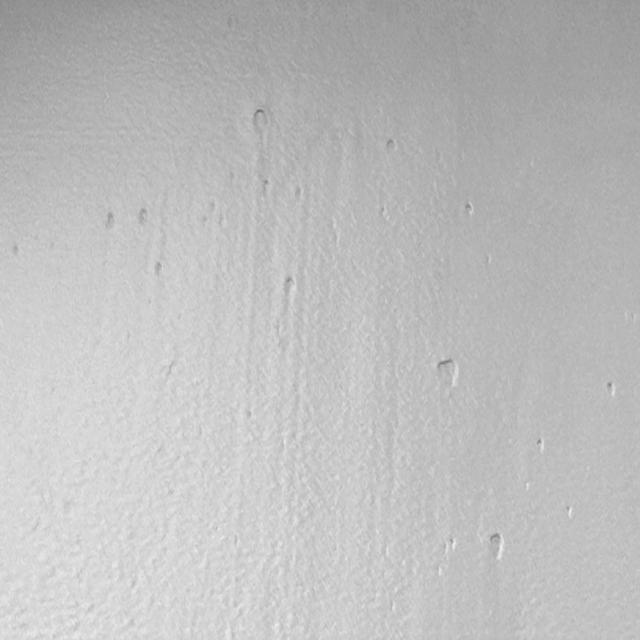pin holes: (433, 356, 461, 390), (246, 109, 268, 141), (484, 530, 505, 560), (279, 276, 297, 300), (104, 210, 121, 234), (136, 208, 152, 230), (604, 380, 620, 400), (384, 135, 398, 155), (444, 536, 458, 556), (463, 201, 478, 219), (153, 262, 167, 281), (10, 242, 24, 260), (292, 185, 305, 204), (535, 438, 548, 455), (261, 179, 273, 197), (564, 504, 576, 522)
